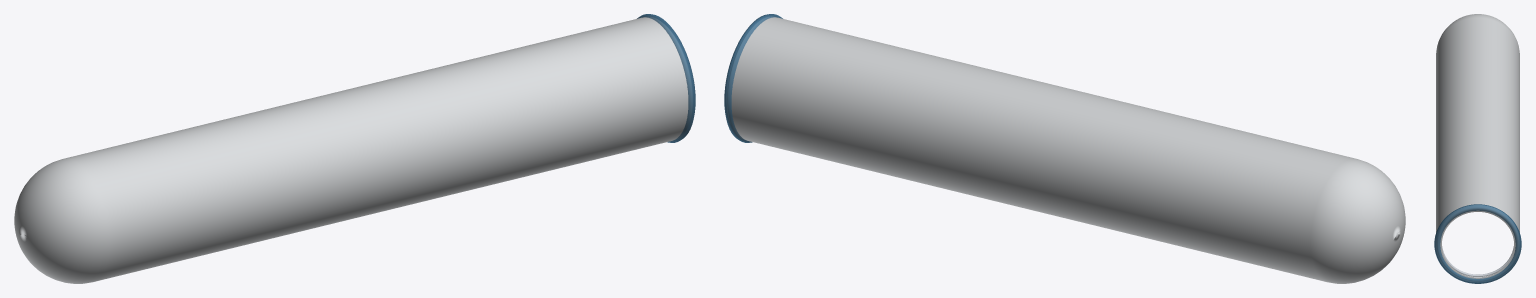
3 renders of one model, left to right at view 1: azimuth 30°, elevation 25°; view 2: azimuth 150°, elevation 25°; view 3: azimuth 270°, elevation 25°, orthographic. The views are drawn at different scales.
Visible parts, largest first — view 1: test-tube part 1, test-tube part 2; view 2: test-tube part 1, test-tube part 2; view 3: test-tube part 1, test-tube part 2, test-tube part 3.
Part boxes in pixels (<box>): test-tube part 1: <box>14,16,692,283</box>; test-tube part 2: <box>637,14,695,142</box>; test-tube part 1: <box>727,16,1405,283</box>; test-tube part 2: <box>724,14,782,142</box>; test-tube part 1: <box>1436,14,1519,281</box>; test-tube part 2: <box>1434,204,1521,283</box>; test-tube part 3: <box>1442,246,1513,276</box>.
Size of the model in its own units: 0.4017 by 0.0716 by 0.0716.
